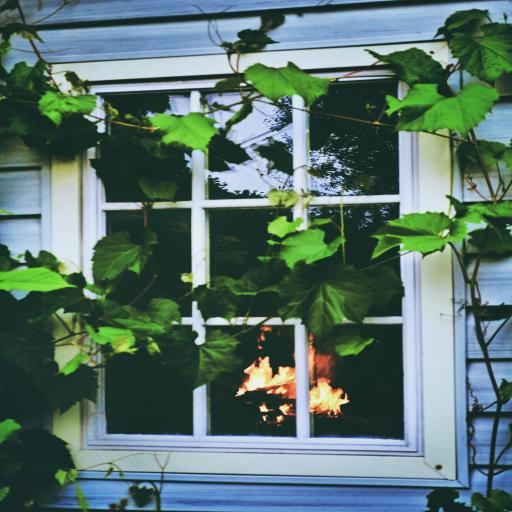campfire: (209, 319, 400, 434)
